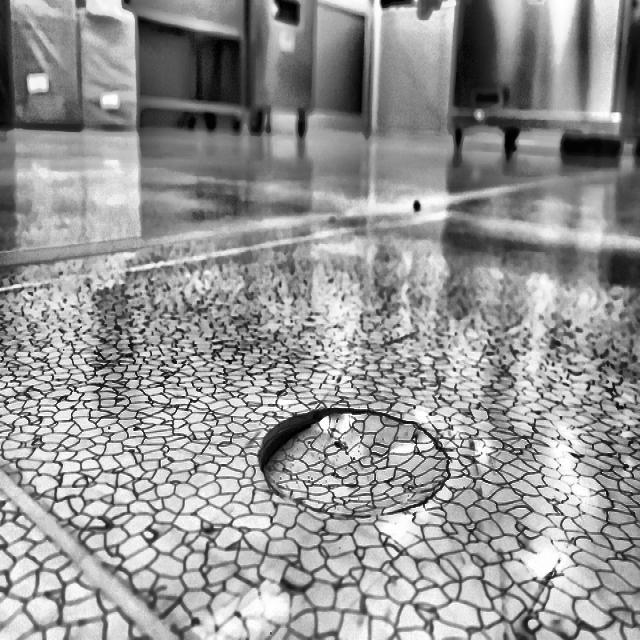hanging object: (251, 391, 462, 547)
